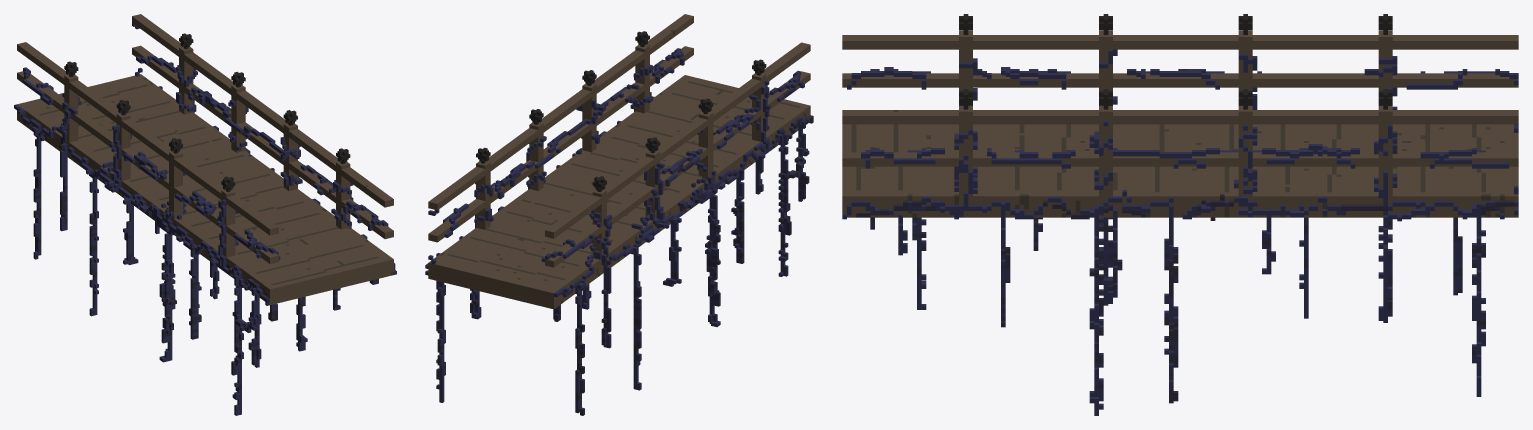
Rendered from pontm.obj.
The picture shows the model from 3 angles, left to right: view 1: azimuth 30°, elevation 25°; view 2: azimuth 150°, elevation 25°; view 3: azimuth 270°, elevation 25°; orthographic projection. The views are drawn at different scales.
Size of the model in its own units: 4.7 by 7.5 by 14.5.
Materials: 1 (1 with a texture image).
